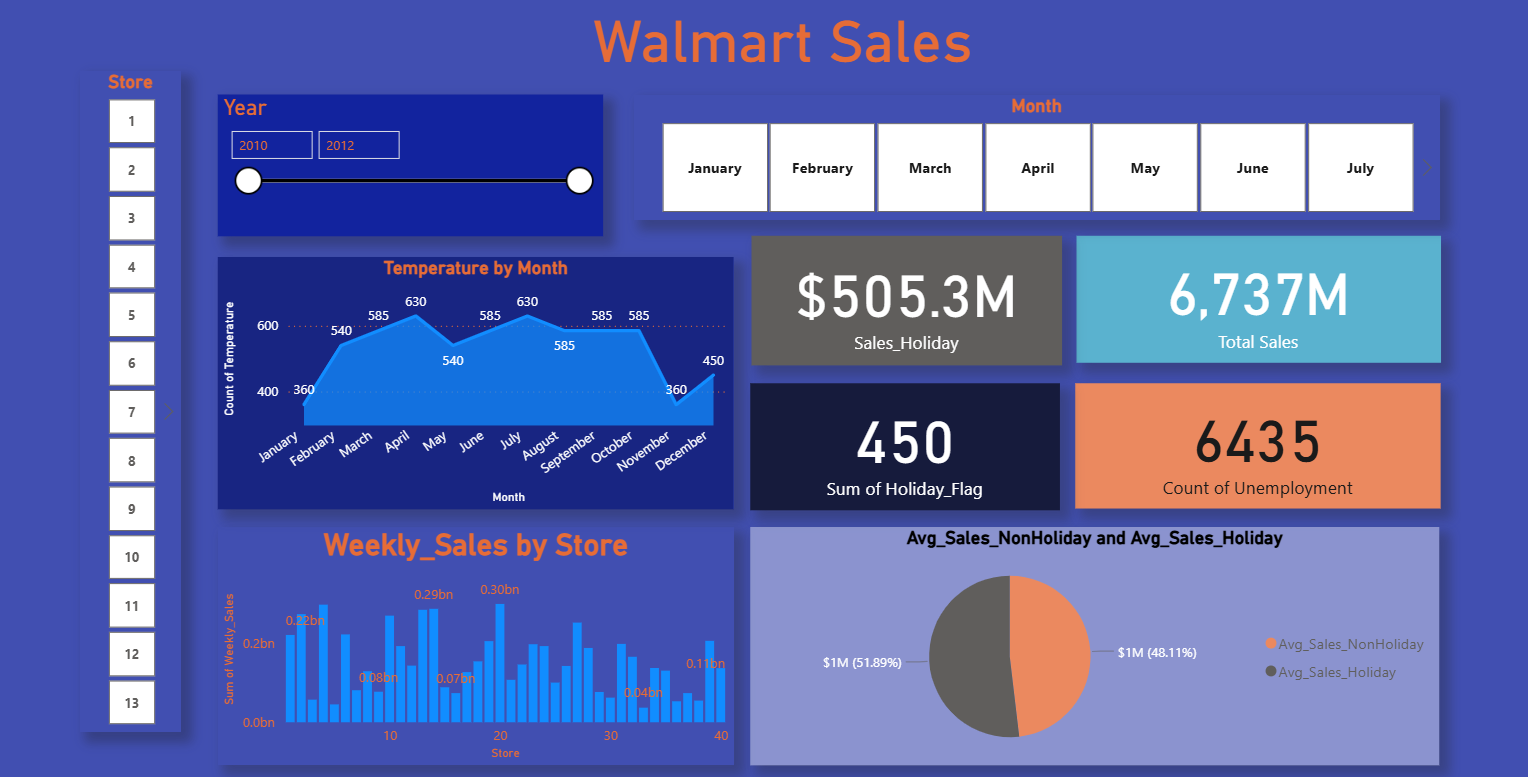

The page's visual inventory and layout, read from the dashboard file:
{"tool":"powerbi","page":{"name":"Page 1","canvas":[1280,720],"ordinal":0},"visuals":[{"type":"textbox","title":"Walmart Sales","box":[231.9,9.6,848,59],"z":0},{"type":"slicer","title":"Store","fields":{"Values":["Walmart_Sales.Store"]},"box":[10,68.4,92.6,608.1],"z":1000},{"type":"card","fields":{"Values":["Sum(Walmart_Sales.Weekly_Sales)"]},"box":[926.2,219.6,334.8,116.6],"z":2000},{"type":"slicer","title":"Year","fields":{"Values":["Walmart_Sales.Date.Variation.Date Hierarchy.Year"]},"box":[137.2,89.2,354,130.4],"z":3000},{"type":"slicer","title":"Month","fields":{"Values":["Walmart_Sales.Date.Variation.Date Hierarchy.Month"]},"box":[519.8,89.7,740.5,115.4],"z":4000},{"type":"card","fields":{"Values":["CountNonNull(Walmart_Sales.Unemployment)"]},"box":[925.7,354.6,336.1,115.4],"z":5000},{"type":"clusteredColumnChart","title":"Weekly_Sales by Store","fields":{"Y":["Sum(Walmart_Sales.Weekly_Sales)"],"Category":["Walmart_Sales.Store"]},"box":[137.2,487.1,474.8,219.6],"z":6000},{"type":"lineChart","title":"Temperature by Month","fields":{"Y":["CountNonNull(Walmart_Sales.Temperature)"],"Category":["Walmart_Sales.Date.Variation.Date Hierarchy.Month"]},"box":[137.2,238.8,474.8,231.9],"z":7000},{"type":"card","fields":{"Values":["Sum(Walmart_Sales.Holiday_Flag)"]},"box":[626.6,354.6,284.8,116.8],"z":8000},{"type":"pieChart","fields":{"Y":["Walmart_Sales.Avg_Sales_NonHoliday","Walmart_Sales.Avg_Sales_Holiday"]},"box":[626.6,487.1,633.7,219.3],"z":9000},{"type":"card","fields":{"Values":["Walmart_Sales.Sales_Holiday"]},"box":[627.1,219.6,285.4,119.4],"z":10000}]}

Visuals, with their boxes on the page's 1280x720 design canvas (x1, y1, x2, y2). These are canvas units, not pixel positions in the 1528x777 screenshot, which may show the page scaled, cropped or inside an application window:
"Walmart Sales" textbox: (x1=232, y1=10, x2=1080, y2=69)
"Store" slicer: (x1=10, y1=68, x2=103, y2=676)
card - Sum(Walmart_Sales.Weekly_Sales): (x1=926, y1=220, x2=1261, y2=336)
"Year" slicer: (x1=137, y1=89, x2=491, y2=220)
"Month" slicer: (x1=520, y1=90, x2=1260, y2=205)
card - CountNonNull(Walmart_Sales.Unemployment): (x1=926, y1=355, x2=1262, y2=470)
"Weekly_Sales by Store" clusteredColumnChart: (x1=137, y1=487, x2=612, y2=707)
"Temperature by Month" lineChart: (x1=137, y1=239, x2=612, y2=471)
card - Sum(Walmart_Sales.Holiday_Flag): (x1=627, y1=355, x2=911, y2=471)
pieChart - Walmart_Sales.Avg_Sales_NonHoliday x Walmart_Sales.Avg_Sales_Holiday: (x1=627, y1=487, x2=1260, y2=706)
card - Walmart_Sales.Sales_Holiday: (x1=627, y1=220, x2=912, y2=339)
